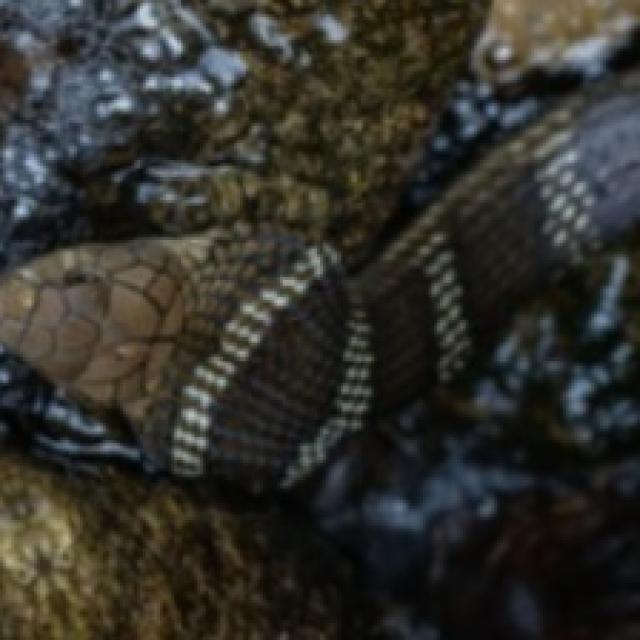king cobra: (0, 0, 637, 489)
